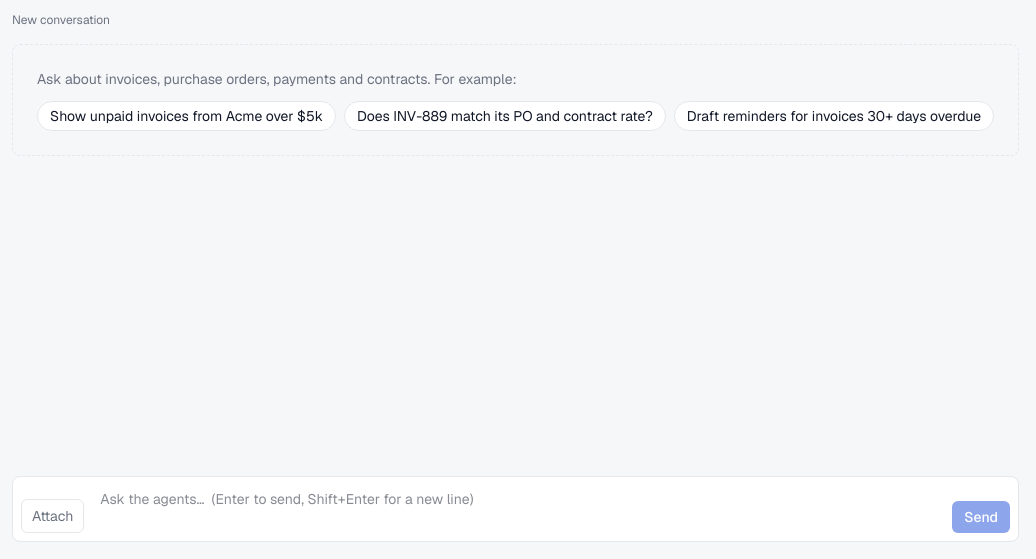
Test: Chat › shows a refused request in the turn
Type "hello" into the text box named "Message" at (518, 509), box [92,485,944,533]
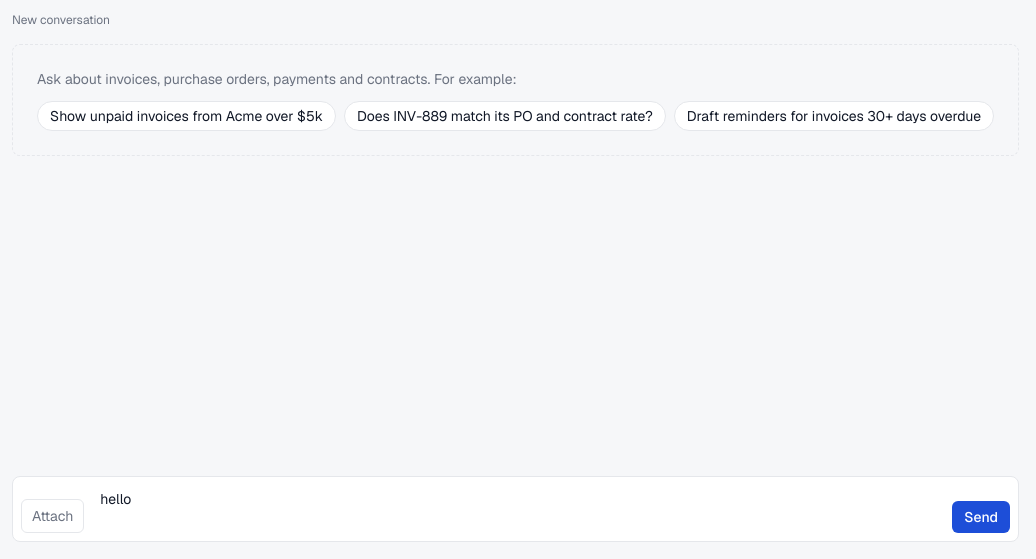
Click the button "Send" at (981, 517), box [952,501,1010,533]
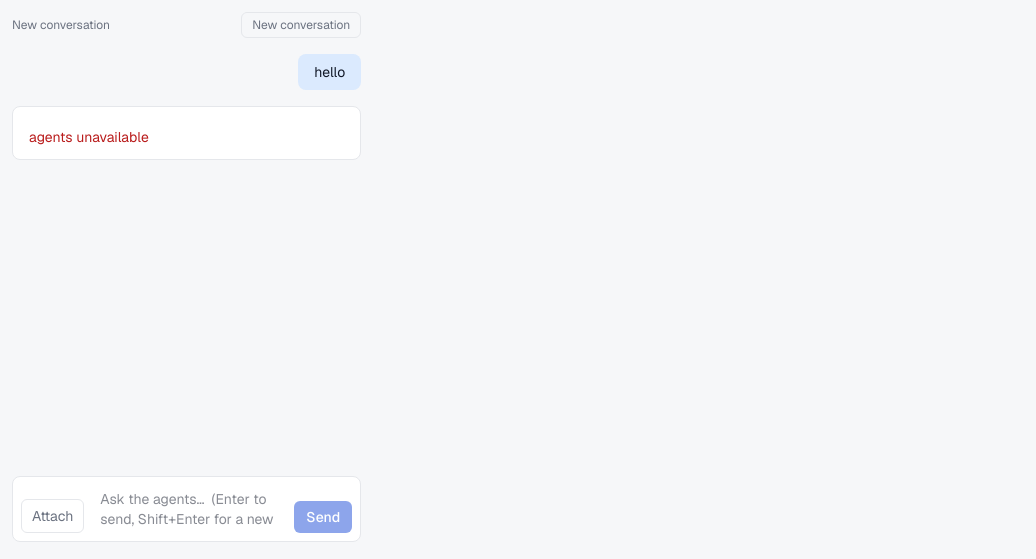
Expected: the message reads "agents unavailable", [29,128,149,146]
Expected: the button "Send" is disabled, [294,501,352,533]
Type "again" into the text box named "Message" at (189, 509), box [92,485,286,533]
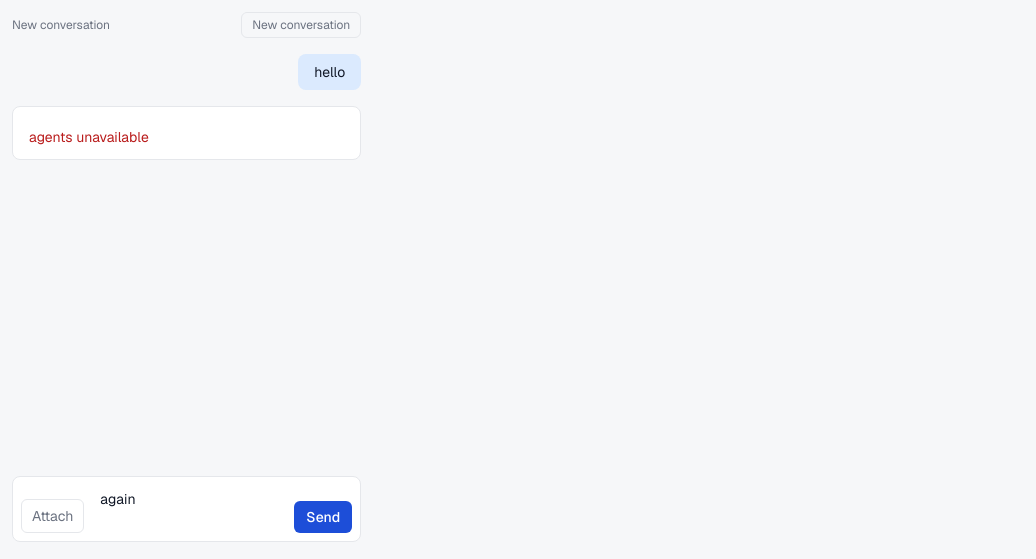
Click the button "Send" at (323, 517), box [294,501,352,533]
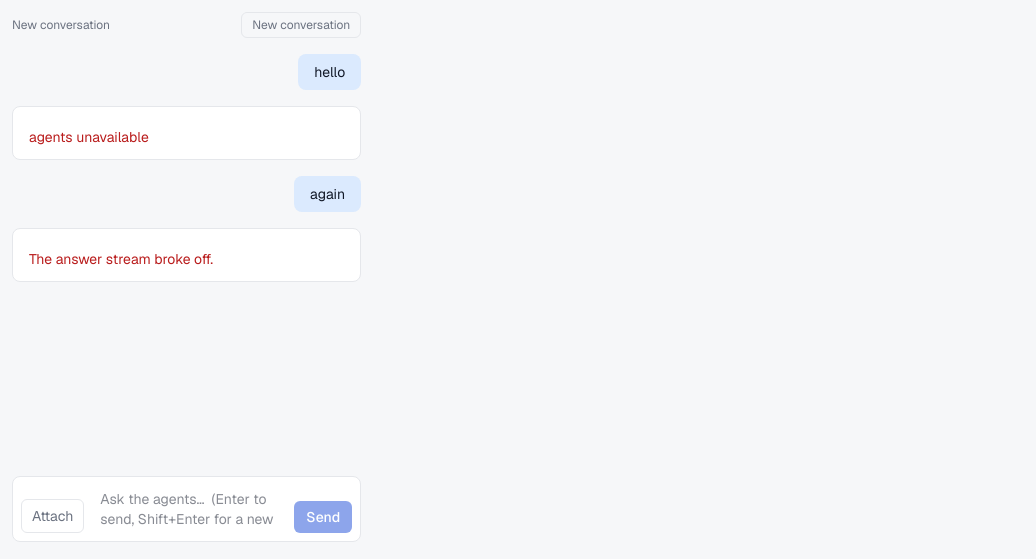
Expected: the message "The answer stream broke off." is shown, [29,250,213,268]
